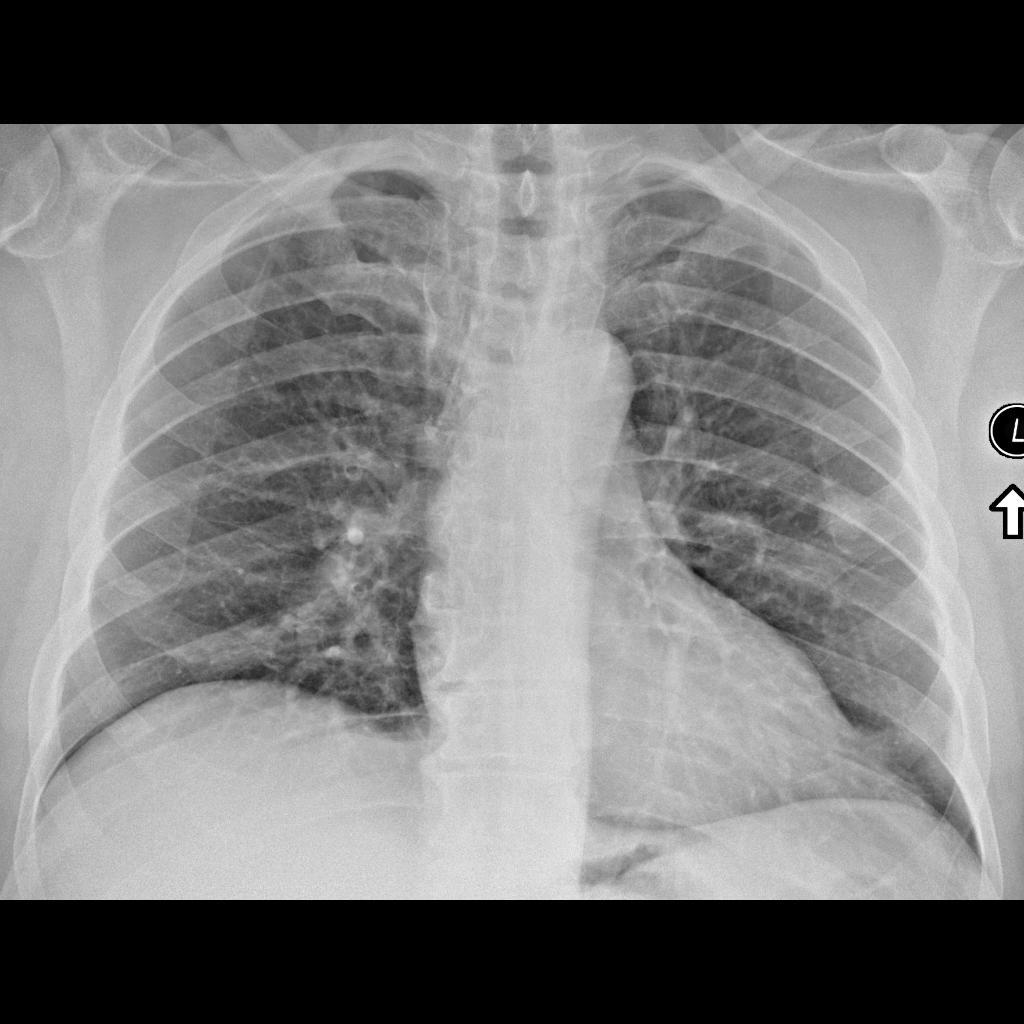Nodule: (809, 481, 882, 555)
